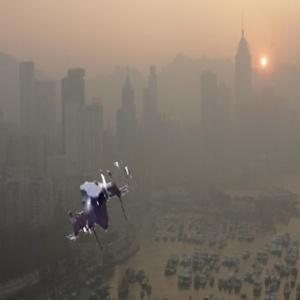drone: (55, 172, 146, 263)
